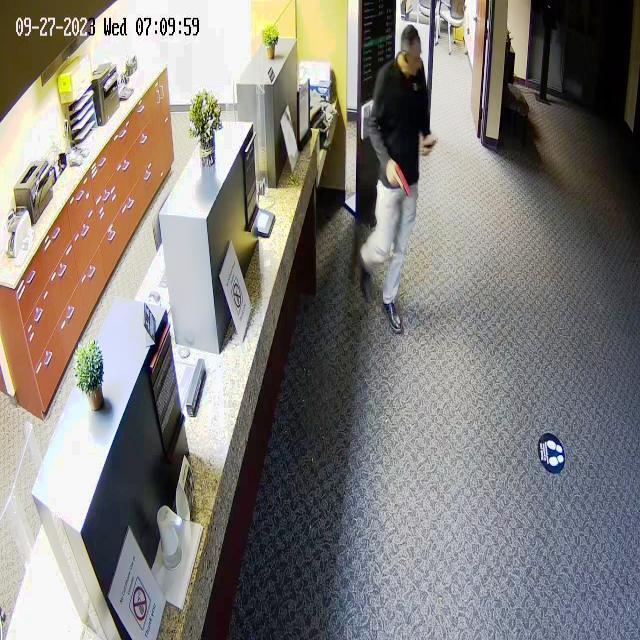Gun: (382, 150, 411, 208)
